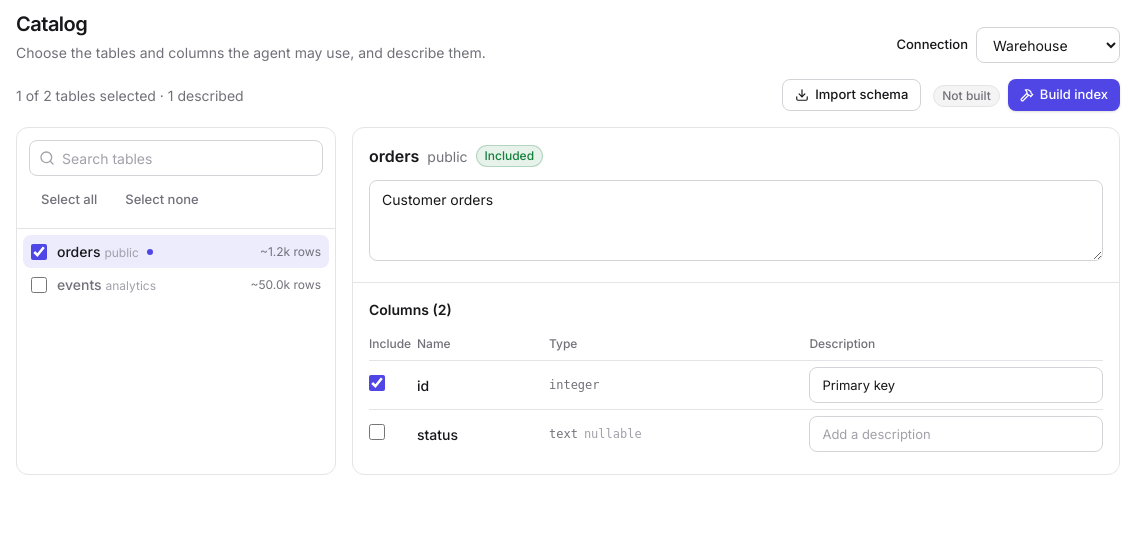
Test case: table list and stats › reverts and alerts when saving fails
This screenshot has width=1137, height=555.
Expected: the checkbox named "Include public.orders" is shown, [31,244,47,260]
Click the checkbox named "Include analytics.events" at (39, 284), box [31,276,47,292]
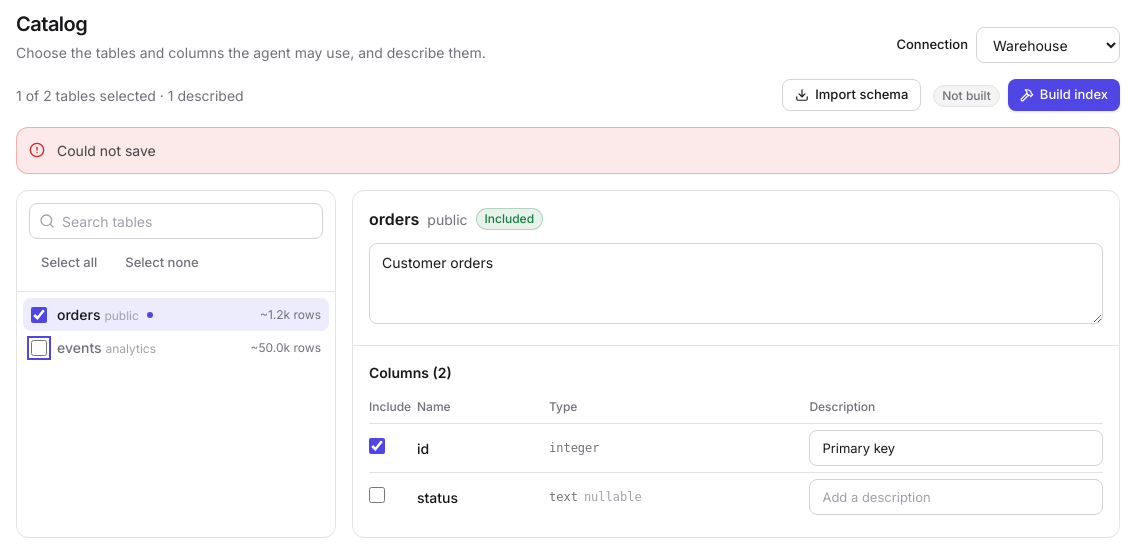
Expected: the checkbox named "Include analytics.events" is not checked, [31,340,47,356]
Expected: the message "Could not save" is shown, [16,127,1120,174]
